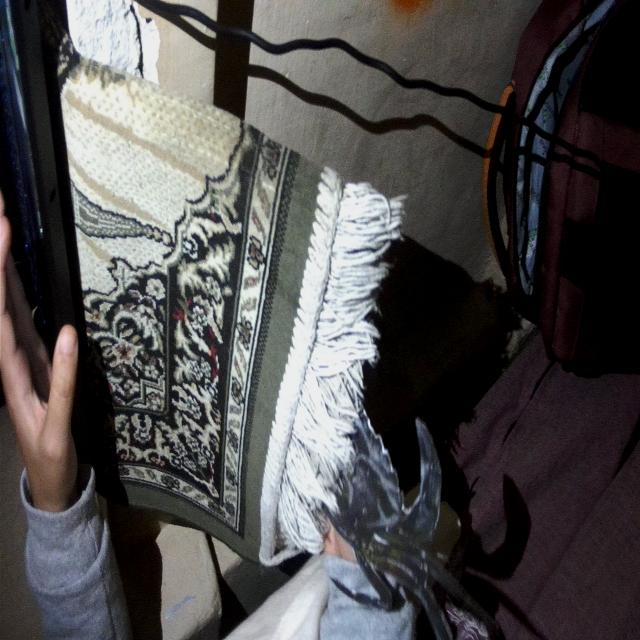European_Green_Crab: (319, 332, 525, 638)
